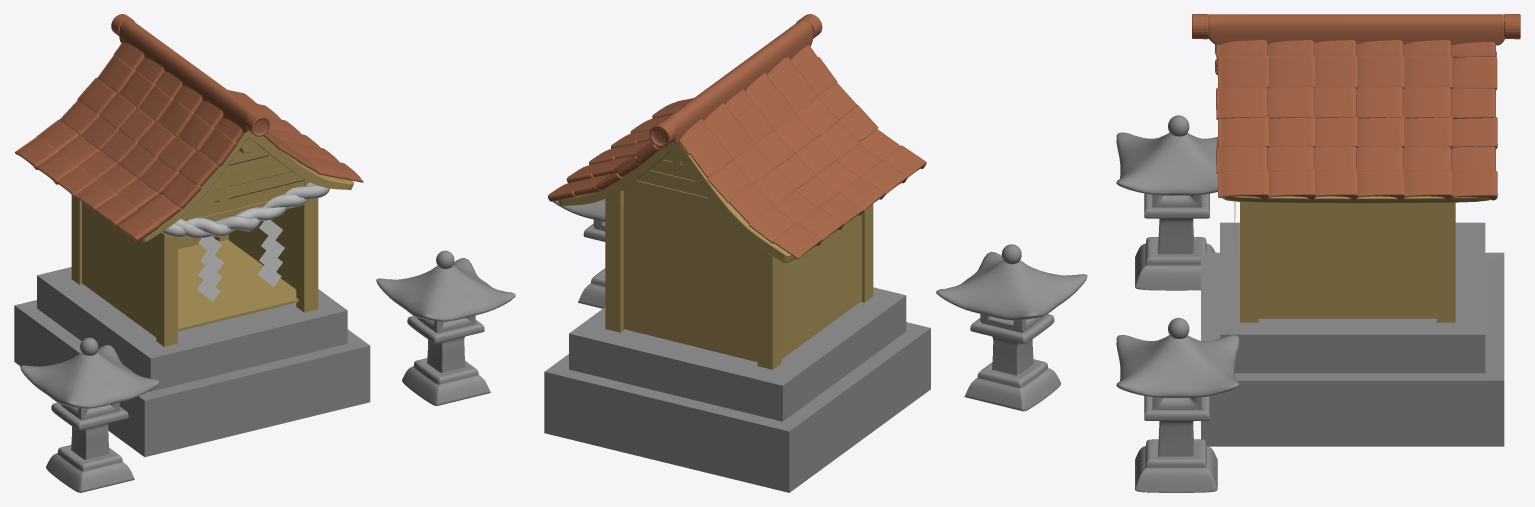
Rendered from HOKORA2.fbx.
3 views of the same model, side by side, from view 1: azimuth 30°, elevation 25°; view 2: azimuth 150°, elevation 25°; view 3: azimuth 270°, elevation 25° (orthographic). The views are drawn at different scales.
Parts seen in each view (by area): view 1: Cube, Cylinder, Cube.005, Cube.002, Plane, Cylinder.003, NurbsPath, Cube.001, Plane.001; view 2: Cube, Cube.002, Cylinder, Cube.005, Cylinder.003, Cube.001; view 3: Cube, Cylinder, Cube.005, Cube.002, Cylinder.003, Cube.001.
Part boxes in pixels (bbox=[...]): Cube: bbox=[14, 267, 370, 457]; Cylinder: bbox=[15, 42, 363, 242]; Cube.005: bbox=[20, 250, 515, 492]; Cube.002: bbox=[71, 143, 318, 346]; Plane: bbox=[178, 239, 298, 331]; Cylinder.003: bbox=[111, 14, 270, 136]; NurbsPath: bbox=[161, 182, 329, 238]; Cube.001: bbox=[140, 131, 353, 242]; Plane.001: bbox=[196, 220, 284, 301]; Cube: bbox=[544, 287, 930, 492]; Cube.002: bbox=[605, 155, 873, 369]; Cylinder: bbox=[548, 45, 926, 259]; Cube.005: bbox=[553, 199, 1087, 411]; Cylinder.003: bbox=[649, 14, 822, 147]; Cube.001: bbox=[558, 142, 795, 263]; Cube: bbox=[1201, 222, 1504, 446]; Cylinder: bbox=[1215, 40, 1497, 200]; Cube.005: bbox=[1116, 115, 1239, 492]; Cube.002: bbox=[1240, 202, 1455, 322]; Cylinder.003: bbox=[1192, 14, 1520, 45]; Cube.001: bbox=[1222, 196, 1490, 203].
Bounding box in the file's own units: 547 × 369 × 367.
